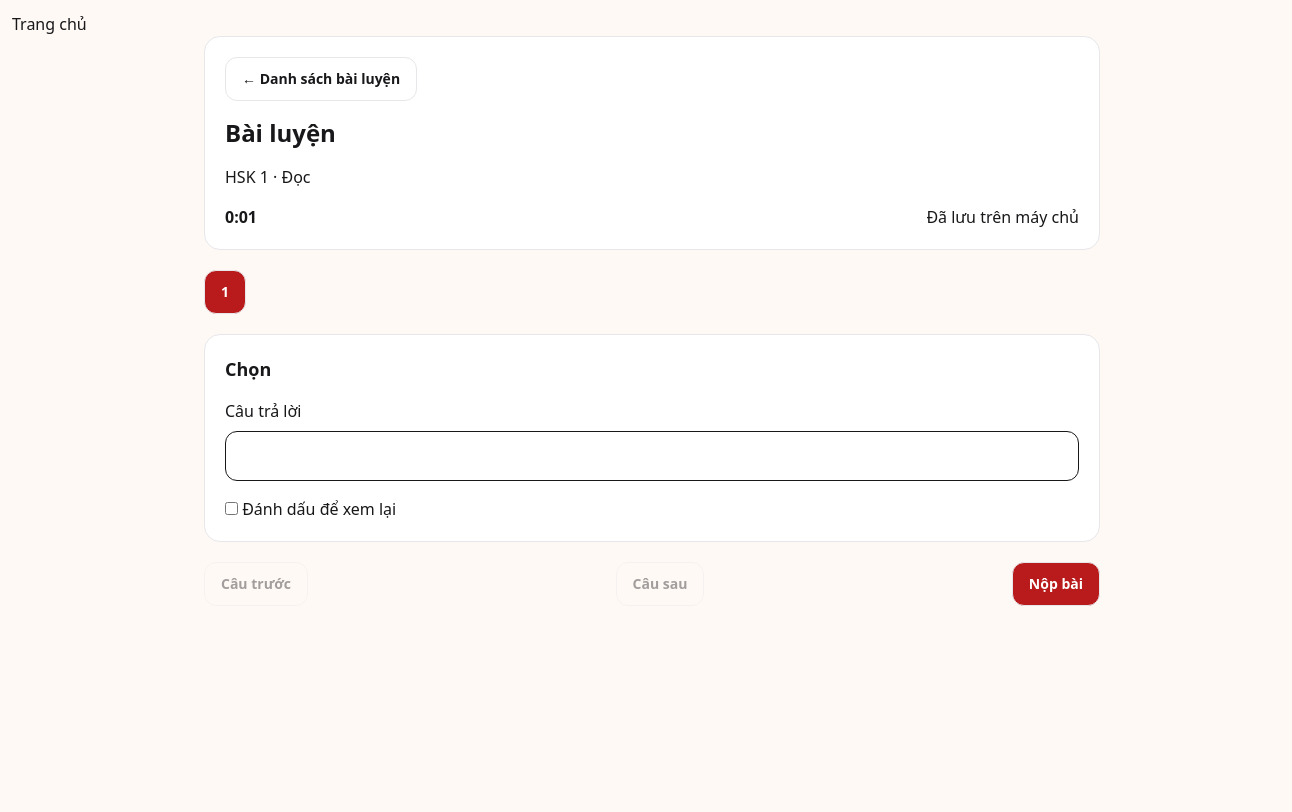
Test: saves short_answer answers selected 500ms before expiry
The width and height of the screenshot is (1292, 812).
Type "a" into the field labelled "Câu trả lời". click: (652, 456)
box: x1=225 y1=431 x2=1079 y2=481
Wait 500 ms
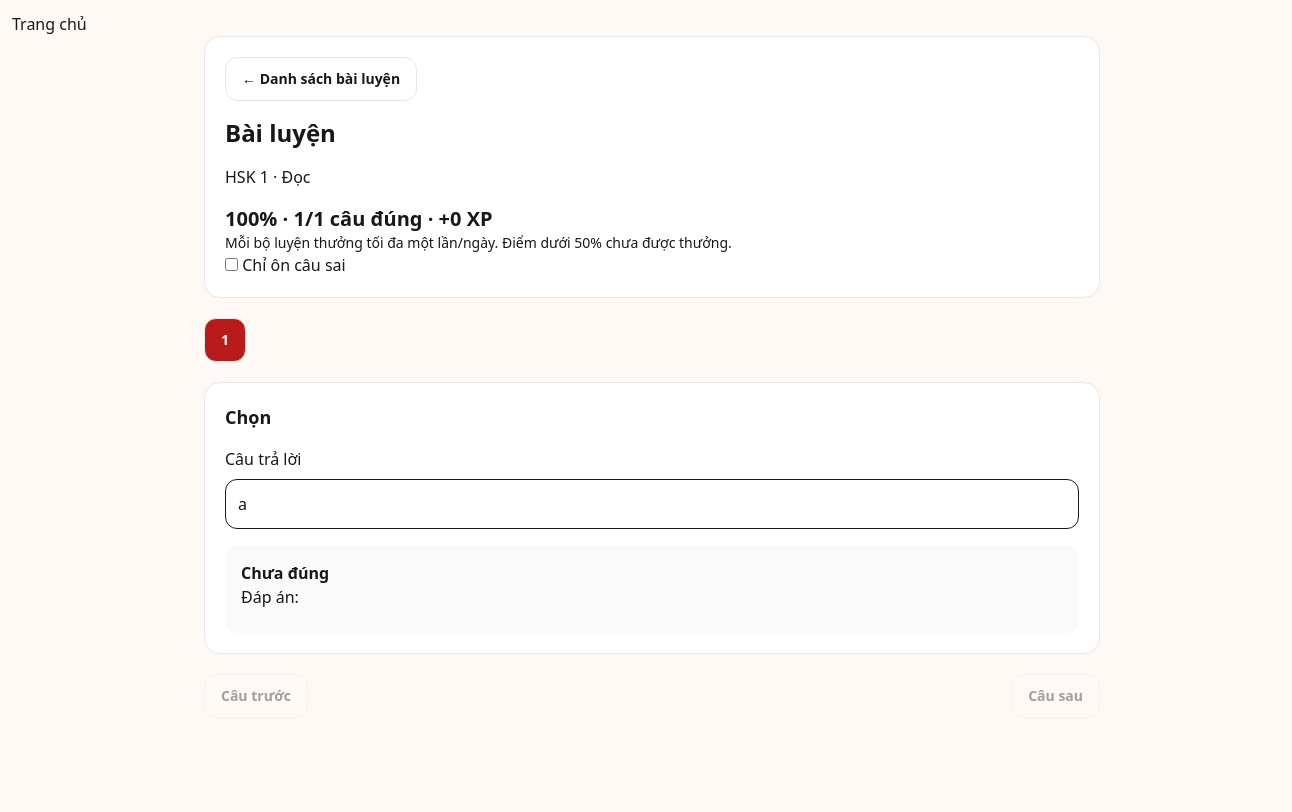
Expected: the text "100% · 1/1 câu đúng · +0 XP" is shown, x1=225 y1=205 x2=493 y2=232
